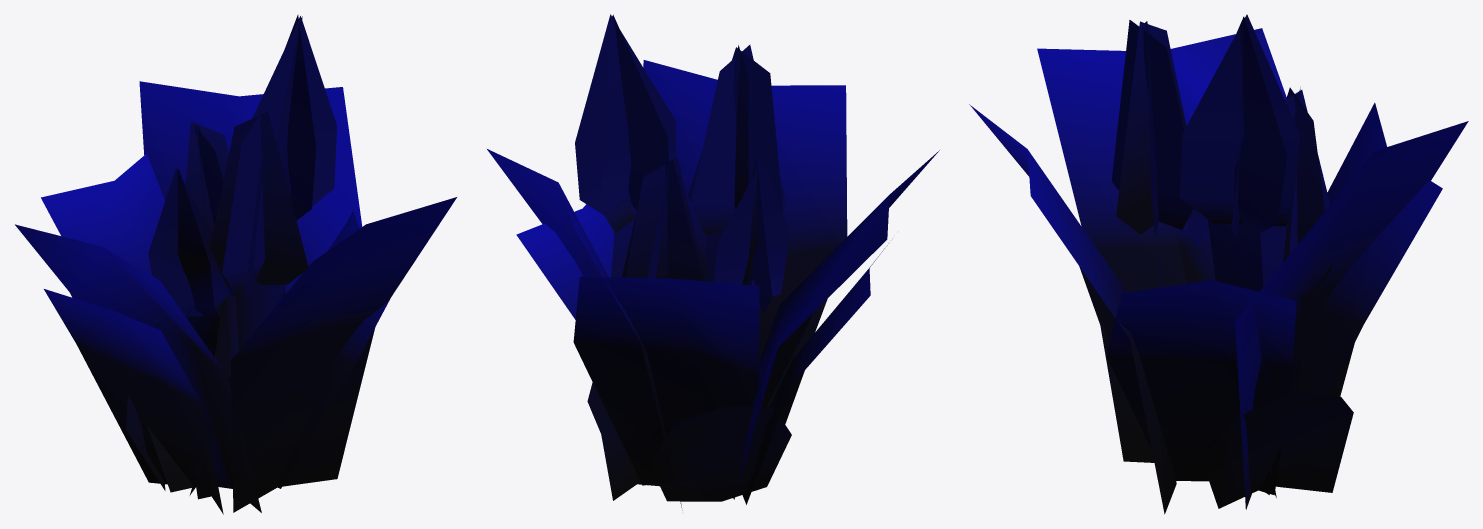
File: SM_Foliage_ReedC_01.fbx
The picture shows the model from 3 angles, left to right: view 1: azimuth 30°, elevation 25°; view 2: azimuth 150°, elevation 25°; view 3: azimuth 270°, elevation 25°; orthographic projection. The views are drawn at different scales.
Visible parts, largest first — view 1: SM_Foliage_ReedC_01; view 2: SM_Foliage_ReedC_01; view 3: SM_Foliage_ReedC_01.
Boxes of the visible parts, x1,y1,x2,y2 form: SM_Foliage_ReedC_01: (15, 15, 456, 514); SM_Foliage_ReedC_01: (487, 14, 939, 510); SM_Foliage_ReedC_01: (969, 14, 1468, 514).
Bounding box in the file's own units: 91.96 × 96.93 × 108.
